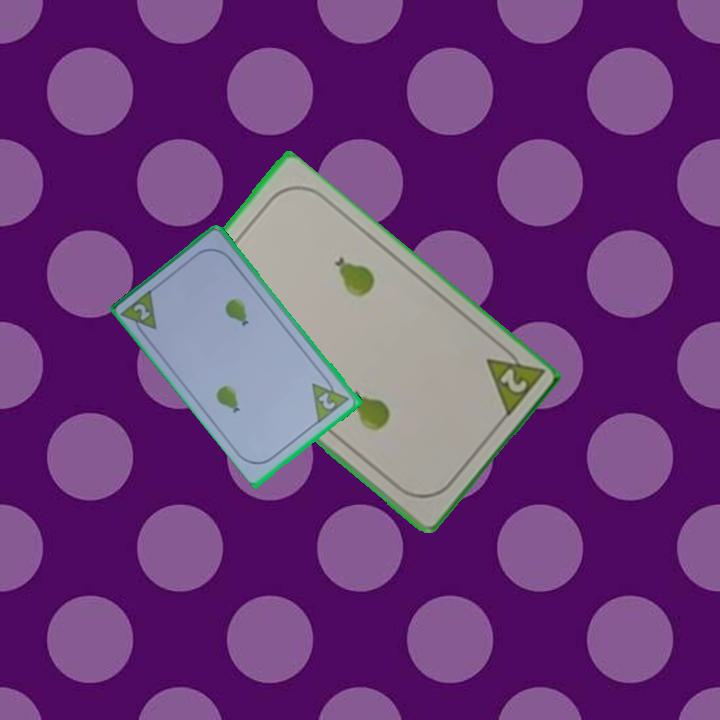2p: (481, 339, 546, 423), (118, 285, 160, 341), (315, 389, 339, 413)
